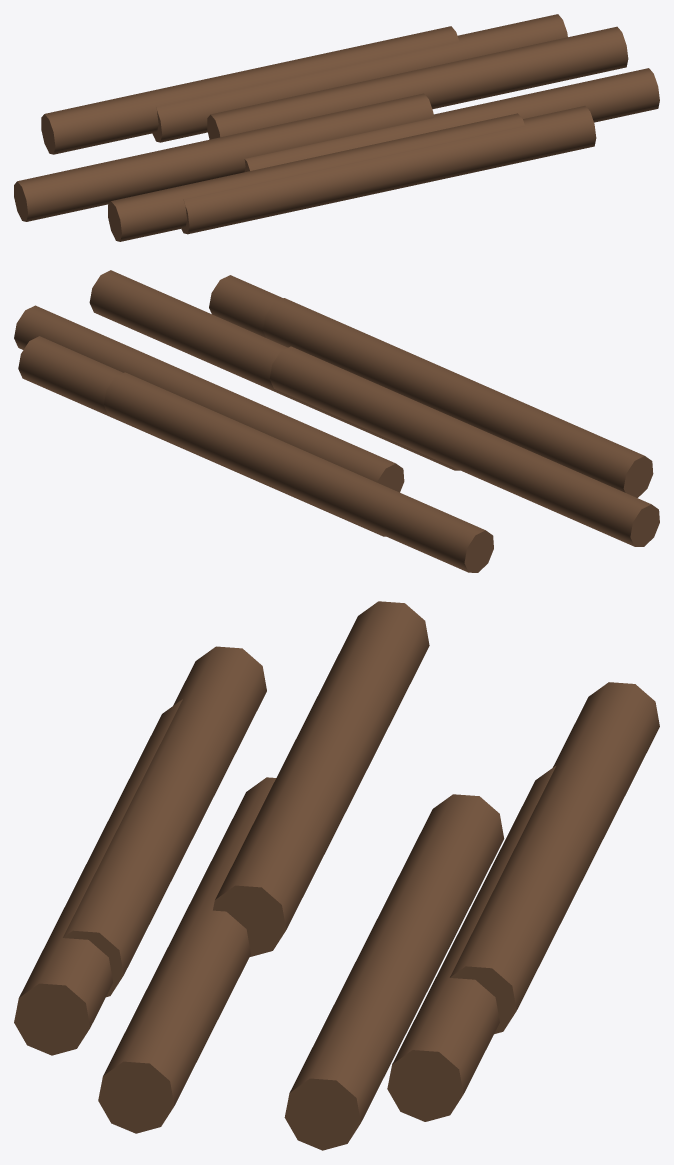
File: twig_bundle.glb
3 renders of one model, top to bottom at view 1: azimuth 30°, elevation 25°; view 2: azimuth 150°, elevation 25°; view 3: azimuth 270°, elevation 25°, orthographic. The views are drawn at different scales.
Parts seen in each view (by area): view 1: Twig0; view 2: Twig0; view 3: Twig0.
Boxes of the visible parts, bbox=[...] form: Twig0: bbox=[14, 14, 659, 241]; Twig0: bbox=[14, 270, 659, 572]; Twig0: bbox=[14, 601, 659, 1150].
Size of the model in its own units: 0.7033 by 0.0726 by 0.3608.
